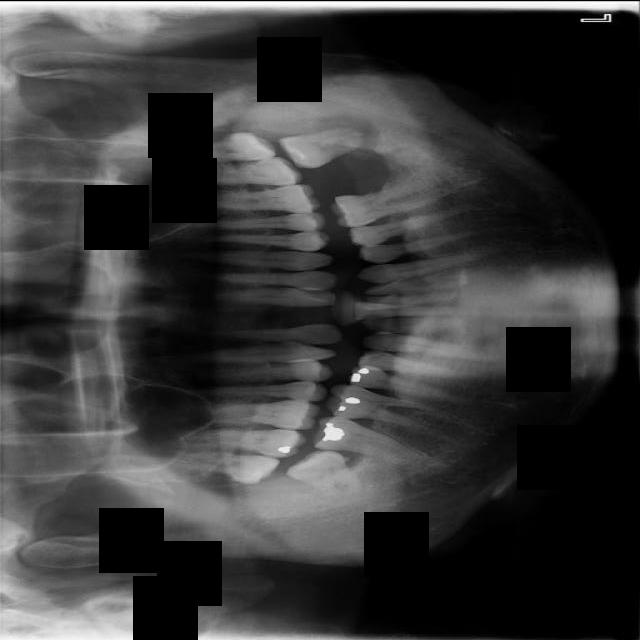3M ESPE Implant: (167, 447, 281, 486)
52: (307, 407, 363, 462), (323, 376, 378, 429), (252, 428, 307, 457), (350, 362, 390, 391), (401, 274, 430, 288)
73: (593, 32, 611, 40)
BioHorizons Implant: (177, 154, 304, 185)
BioLife Implant: (167, 130, 276, 165)
Biomet 3i Implant: (279, 120, 368, 174)
Caries: (183, 426, 306, 458)
Implant: (310, 411, 425, 467)
Keystone Dental Implant: (285, 435, 374, 509)
